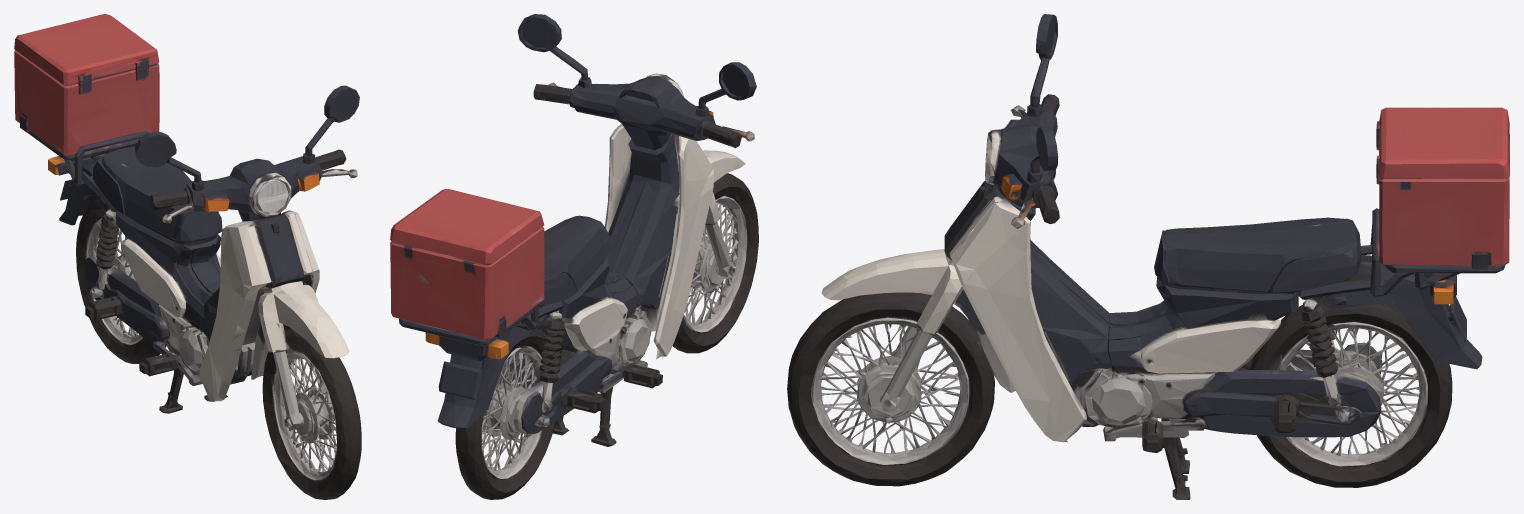
Rendered from delivery_scooter.glb.
The picture shows the model from 3 angles, left to right: view 1: azimuth 30°, elevation 25°; view 2: azimuth 150°, elevation 25°; view 3: azimuth 270°, elevation 25°; orthographic projection. The views are drawn at different scales.
Parts seen in each view (by area): view 1: delivery_scooter; view 2: delivery_scooter; view 3: delivery_scooter.
Boxes of the visible parts, <box> form: delivery_scooter: <box>14,14,361,499</box>; delivery_scooter: <box>390,14,758,499</box>; delivery_scooter: <box>787,14,1509,499</box>.
Bounding box in the file's own units: 0.8333 × 1.2 × 1.9.
Materials: 1 (1 with a texture image).
